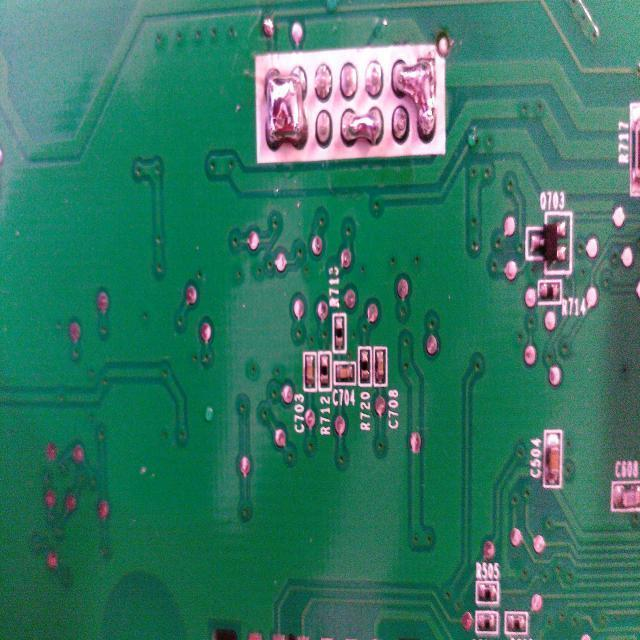Soldering shorted: (264, 65, 310, 155), (389, 59, 436, 141), (338, 102, 384, 150)
